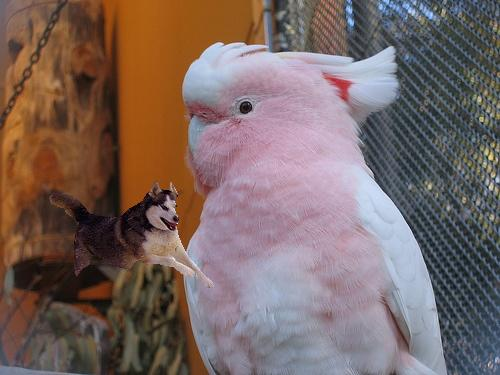tampered: (50, 182, 214, 288)
